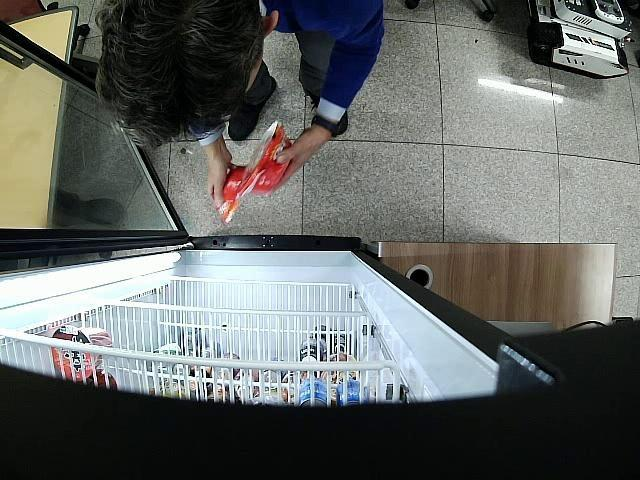10_wangTtukkeong: (238, 120, 294, 196), (217, 166, 247, 224)
